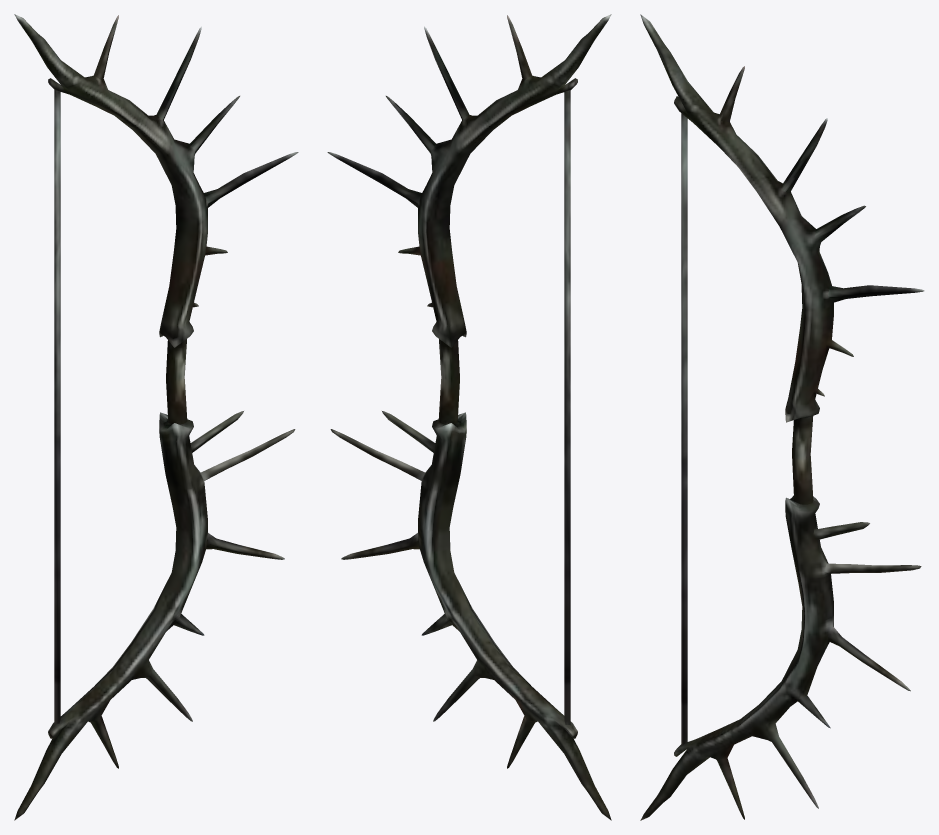
File: weapon-siren-s-call.glb
3 renders of one model, left to right at view 1: azimuth 30°, elevation 25°; view 2: azimuth 150°, elevation 25°; view 3: azimuth 330°, elevation 25°, orthographic.
Visible parts, largest first — view 1: bowF_MDL_q; view 2: bowF_MDL_q; view 3: bowF_MDL_q.
Boxes of the visible parts, x1=… form: bowF_MDL_q: x1=14, y1=14, x2=298, y2=820; bowF_MDL_q: x1=327, y1=14, x2=611, y2=820; bowF_MDL_q: x1=640, y1=14, x2=924, y2=820.
Bounding box in the file's own units: 0.7716 × 2.09 × 0.0921.
Materials: 1 (1 with a texture image).
